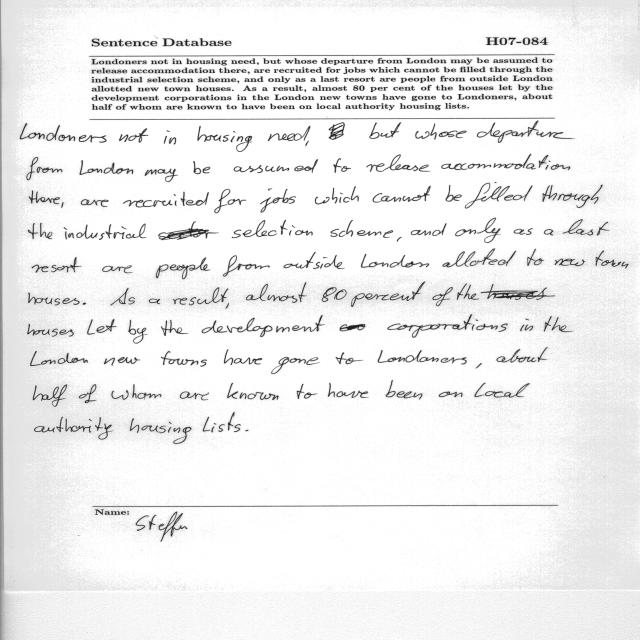word: (387, 315, 508, 338), (202, 315, 325, 337), (477, 121, 575, 143), (441, 154, 570, 170), (351, 282, 425, 307), (465, 183, 533, 209), (26, 123, 107, 143), (130, 418, 191, 444), (47, 417, 113, 440), (232, 220, 313, 238), (543, 184, 603, 208), (198, 126, 252, 152), (64, 223, 146, 240), (443, 249, 516, 267), (123, 192, 209, 207), (246, 282, 306, 303), (378, 350, 467, 364), (481, 284, 555, 300), (234, 159, 318, 173), (158, 221, 219, 240), (455, 218, 501, 243), (156, 258, 210, 279), (331, 220, 393, 238), (367, 155, 431, 172), (284, 252, 345, 269), (223, 255, 270, 277), (173, 288, 228, 306), (373, 186, 431, 203), (527, 249, 585, 266), (361, 254, 429, 267), (227, 383, 279, 400), (260, 189, 296, 213), (271, 357, 320, 374), (415, 124, 467, 140), (496, 347, 548, 363), (475, 383, 530, 398), (112, 384, 162, 400), (80, 160, 133, 175), (315, 187, 359, 205), (563, 219, 609, 236), (215, 189, 247, 213), (203, 412, 241, 432), (161, 351, 207, 367), (386, 380, 422, 400), (268, 126, 310, 141), (328, 383, 369, 398), (596, 251, 629, 269), (224, 350, 262, 365), (370, 122, 402, 139), (47, 257, 82, 272), (411, 223, 447, 236), (88, 319, 117, 335), (544, 316, 573, 332), (128, 320, 148, 343), (47, 353, 88, 364), (161, 320, 189, 336), (47, 385, 67, 407), (119, 128, 148, 143), (145, 169, 178, 182), (28, 223, 53, 239), (432, 287, 453, 306), (457, 283, 479, 300), (111, 288, 129, 306), (104, 357, 140, 366), (336, 352, 363, 364), (79, 384, 96, 403), (47, 298, 86, 306), (297, 384, 317, 399), (329, 122, 345, 140), (446, 185, 462, 202), (333, 158, 351, 173), (103, 265, 133, 273), (180, 392, 209, 400), (322, 287, 337, 302), (194, 161, 211, 174), (81, 199, 108, 207), (47, 329, 74, 337), (340, 325, 365, 332), (164, 131, 176, 145), (520, 319, 533, 331), (334, 289, 347, 300), (514, 228, 533, 235), (439, 392, 463, 397), (47, 197, 60, 204), (47, 167, 62, 173), (544, 229, 553, 236), (149, 299, 160, 304), (129, 298, 135, 305), (476, 364, 482, 369), (397, 237, 402, 242), (225, 303, 229, 309), (306, 141, 309, 146), (62, 202, 64, 208), (245, 430, 249, 431)
